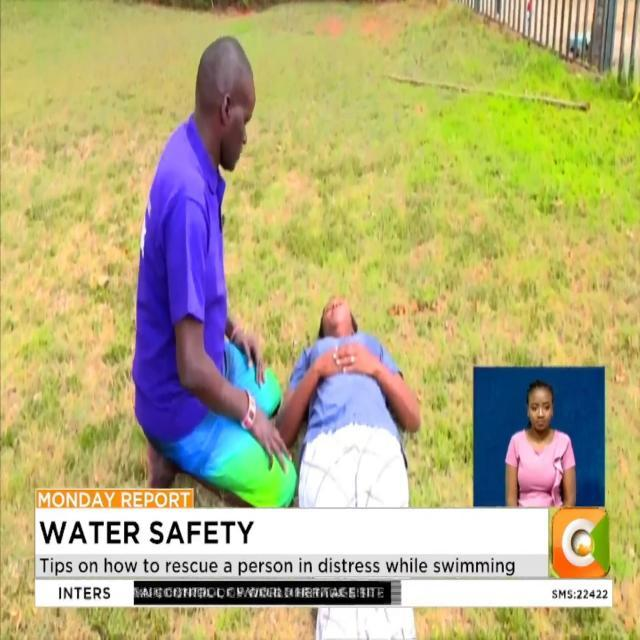out of water: (138, 33, 295, 508), (281, 295, 423, 640)
